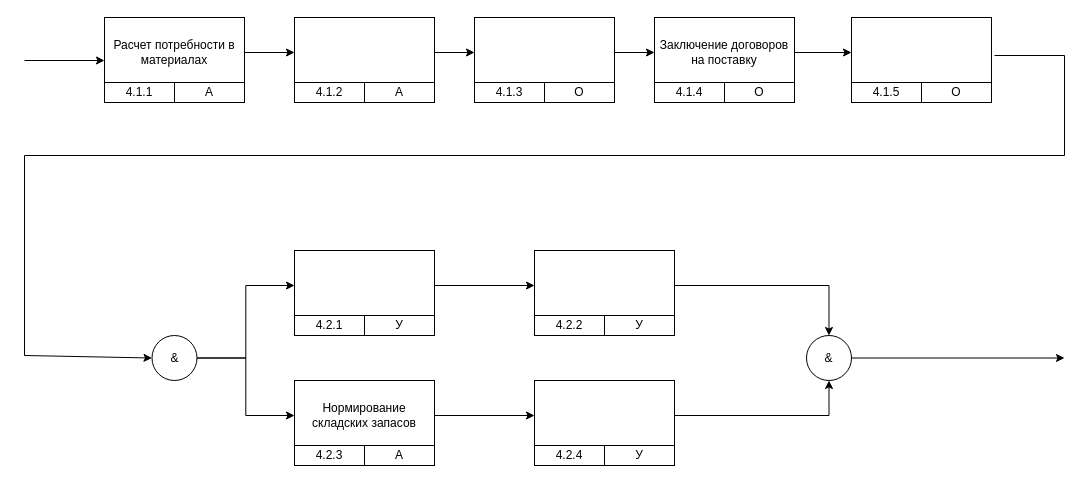
Image size: 1090x483. Some labels were removed from this diagram. Here are the shapes that lost their labels. From the top down, the centre of each, then its label:
the point at 364,52: Поиск и выбор поставщиков
the point at 544,52: Проведение тендеров
the point at 921,52: Контроль исполнения договоров поставки
the point at 364,285: Доставка материальных ресурсов на склады
the point at 604,285: Учет движения материалов на складе
the point at 604,415: Инвентаризация складских запасов
